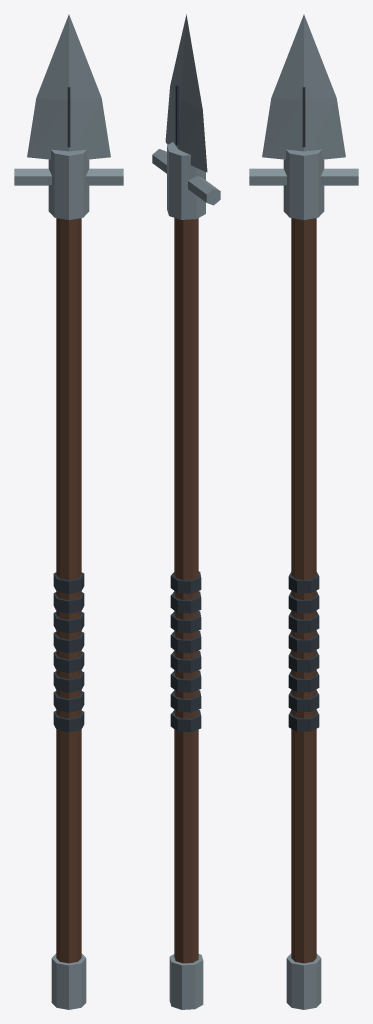
File: spear_iron.glb
The picture shows the model from 3 angles, left to right: view 1: azimuth 90°, elevation 25°; view 2: azimuth 210°, elevation 25°; view 3: azimuth 270°, elevation 25°; orthographic projection.
Visible parts, largest first — view 1: geometry; view 2: geometry; view 3: geometry.
Part boxes in pixels (left/top/right/bottom): geometry: left=14, top=14, right=123, bottom=1009; geometry: left=152, top=14, right=220, bottom=1009; geometry: left=249, top=14, right=358, bottom=1009.
Bounding box in the file's own units: 0.074 × 2 × 0.2.
